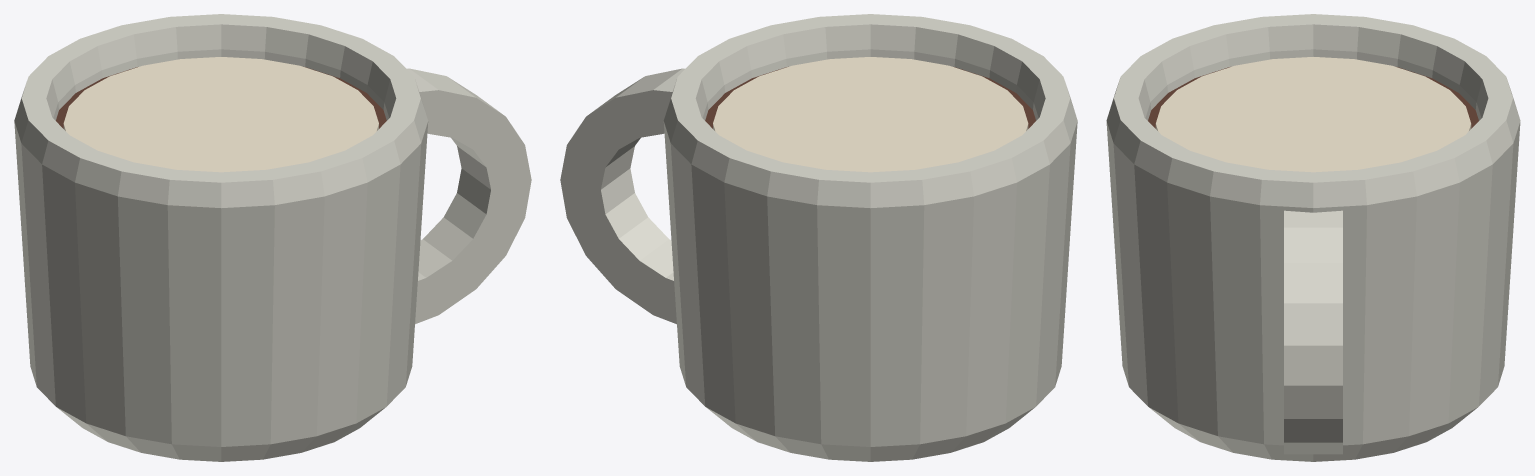
File: coffee-corner-forest-mug.glb
The picture shows the model from 3 angles, left to right: view 1: azimuth 30°, elevation 25°; view 2: azimuth 150°, elevation 25°; view 3: azimuth 270°, elevation 25°; orthographic projection.
Visible parts, largest first — view 1: MugShell, FoamSurface, MugHandle, LatteSurface; view 2: MugShell, FoamSurface, MugHandle, LatteSurface; view 3: MugShell, FoamSurface, MugHandle, LatteSurface.
Boxes of the visible parts, x1,y1,x2,y2 form: MugShell: (14, 14, 428, 461); FoamSurface: (63, 57, 378, 172); MugHandle: (407, 68, 531, 324); LatteSurface: (56, 66, 386, 128); MugShell: (663, 14, 1077, 461); FoamSurface: (713, 57, 1028, 172); MugHandle: (560, 68, 684, 324); LatteSurface: (705, 66, 1035, 128); MugShell: (1106, 14, 1520, 461); FoamSurface: (1155, 57, 1471, 172); MugHandle: (1284, 210, 1342, 454); LatteSurface: (1148, 67, 1478, 128).
Bounding box in the file's own units: 0.445 × 0.265 × 0.336.
